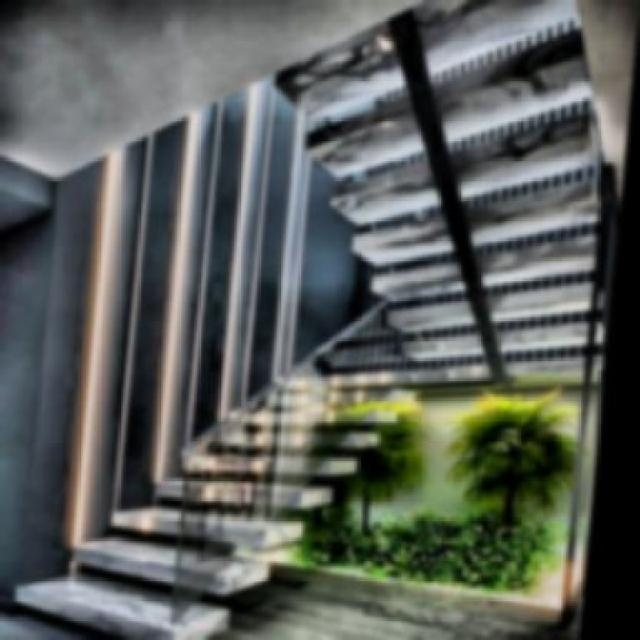stair: (34, 298, 372, 638)
